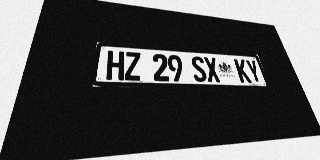2: (152, 53, 169, 81)
9: (167, 54, 184, 81)
H: (106, 50, 124, 80)
K: (234, 59, 252, 83)
S: (190, 56, 208, 82)
X: (203, 57, 221, 82)
Y: (245, 59, 263, 83)
Z: (124, 52, 141, 81)
